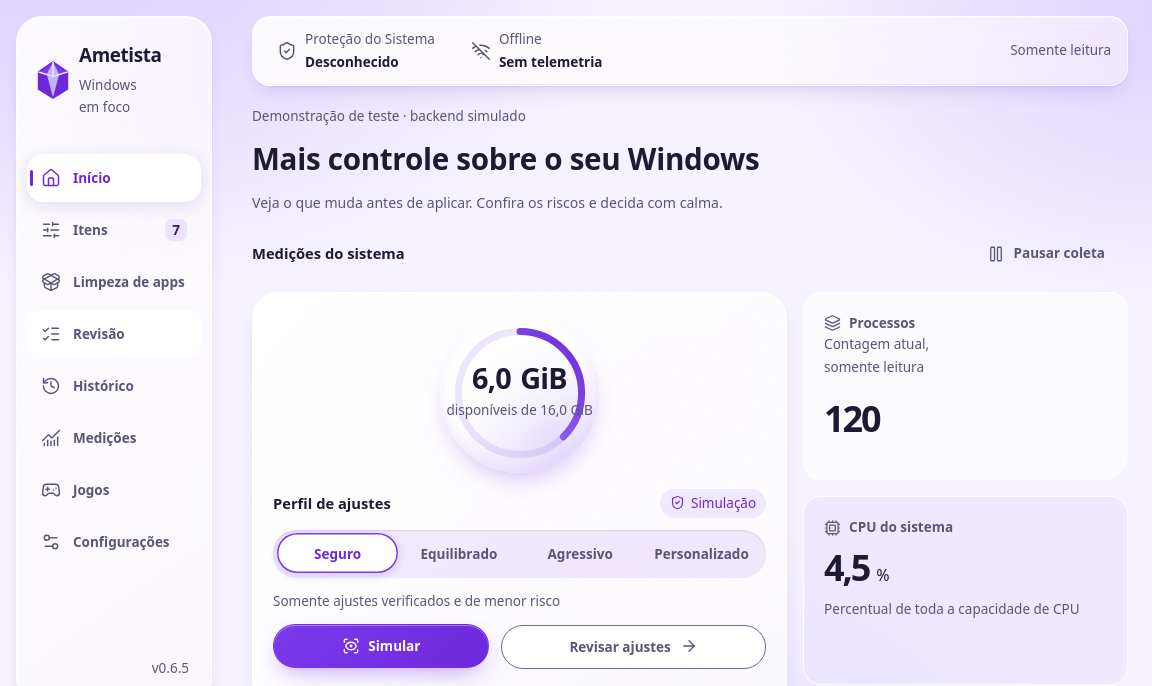
Test: analysis is cancellable and cancellation never executes changes
The image size is (1152, 686).
Click the button "Simular". click: coordinates (381, 646)
box: [273,624,489,668]
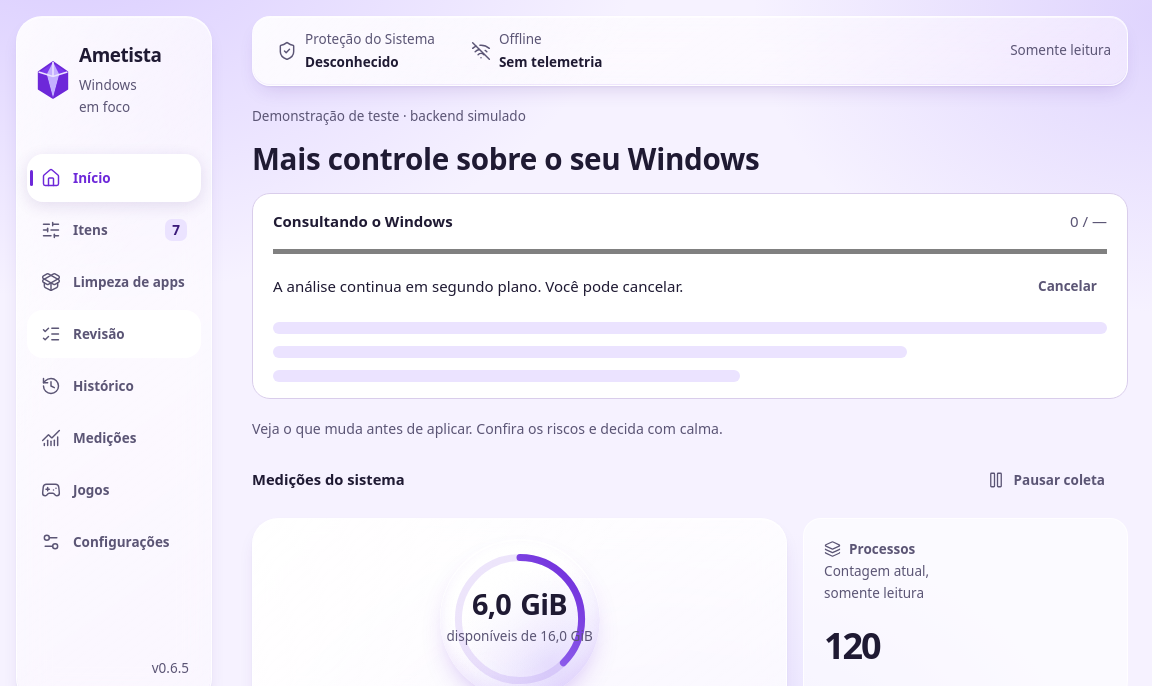
Click the button "Cancelar". click: coordinates (1068, 286)
box: [1028,266,1107,306]
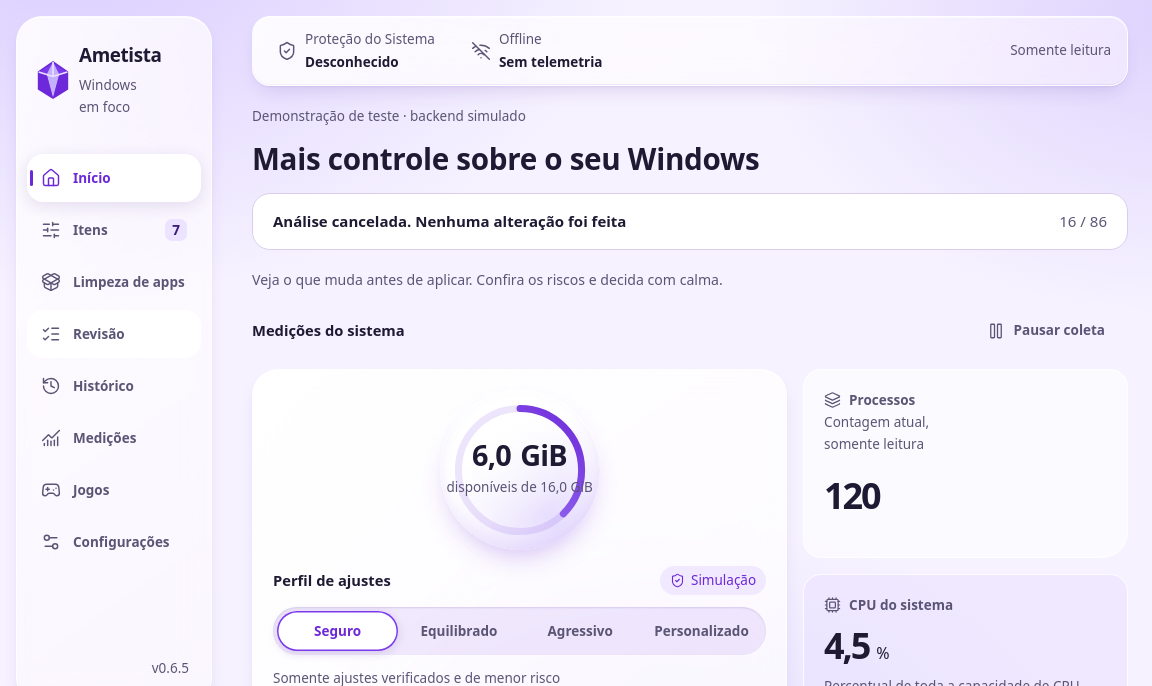
Expected: the text "Análise cancelada. Nenhuma alteração foi feita" is shown, [273,211,626,231]
